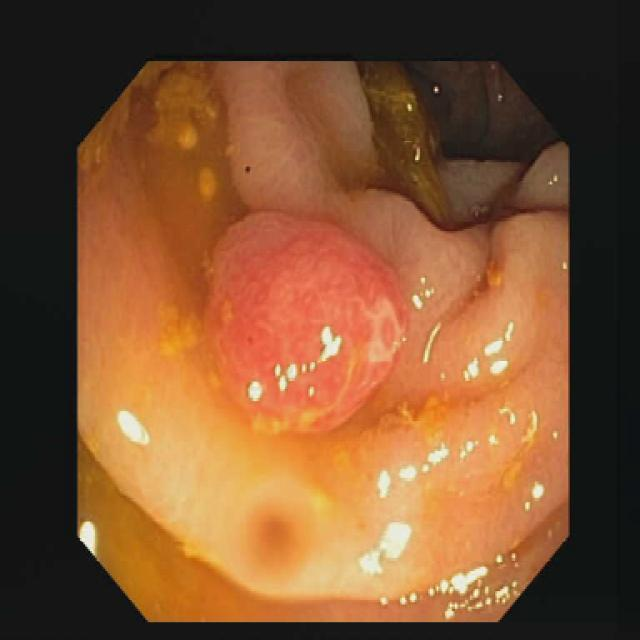tumor: (207, 213, 407, 433)
